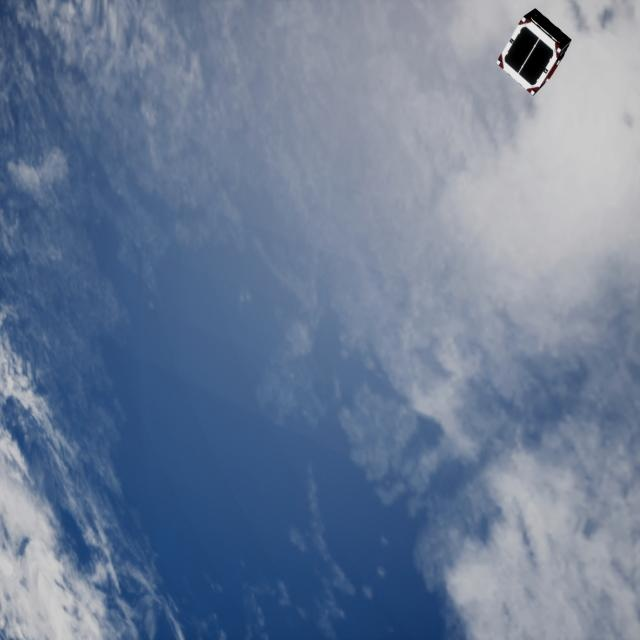satellite: (492, 7, 573, 101)
